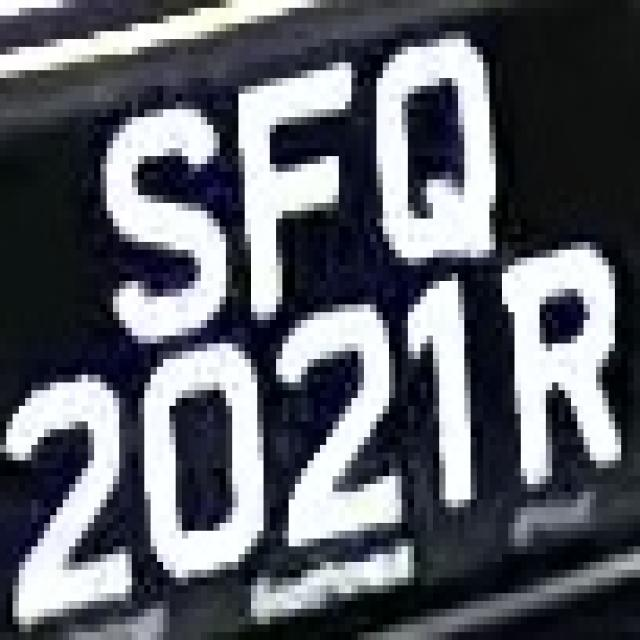0: (138, 328, 282, 593)
1: (408, 234, 496, 554)
2: (257, 289, 414, 593), (6, 359, 144, 624)
F: (213, 39, 358, 343)
Q: (358, 16, 520, 273)
R: (490, 234, 628, 500)
S: (81, 78, 226, 343)
